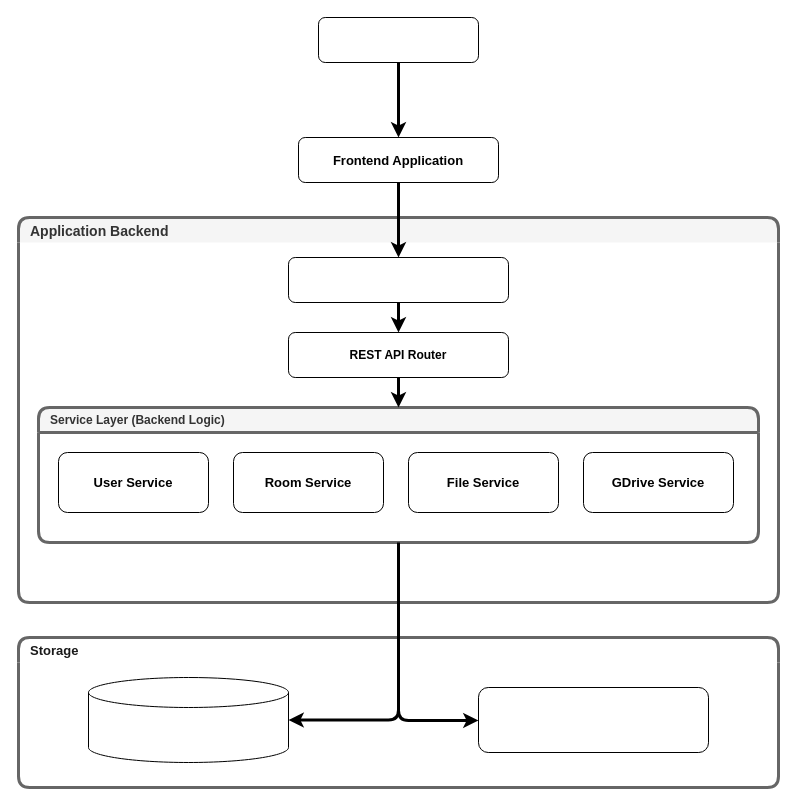
This 797x806 diagram has some shape labels left out. The centre of each missing label's shape, as x and y in pixels:
"Authentication Layer" goes at (398,279).
"Client User" goes at (398,39).
"File Storage Services" goes at (593,719).
"Metadata Storage" goes at (188,719).
